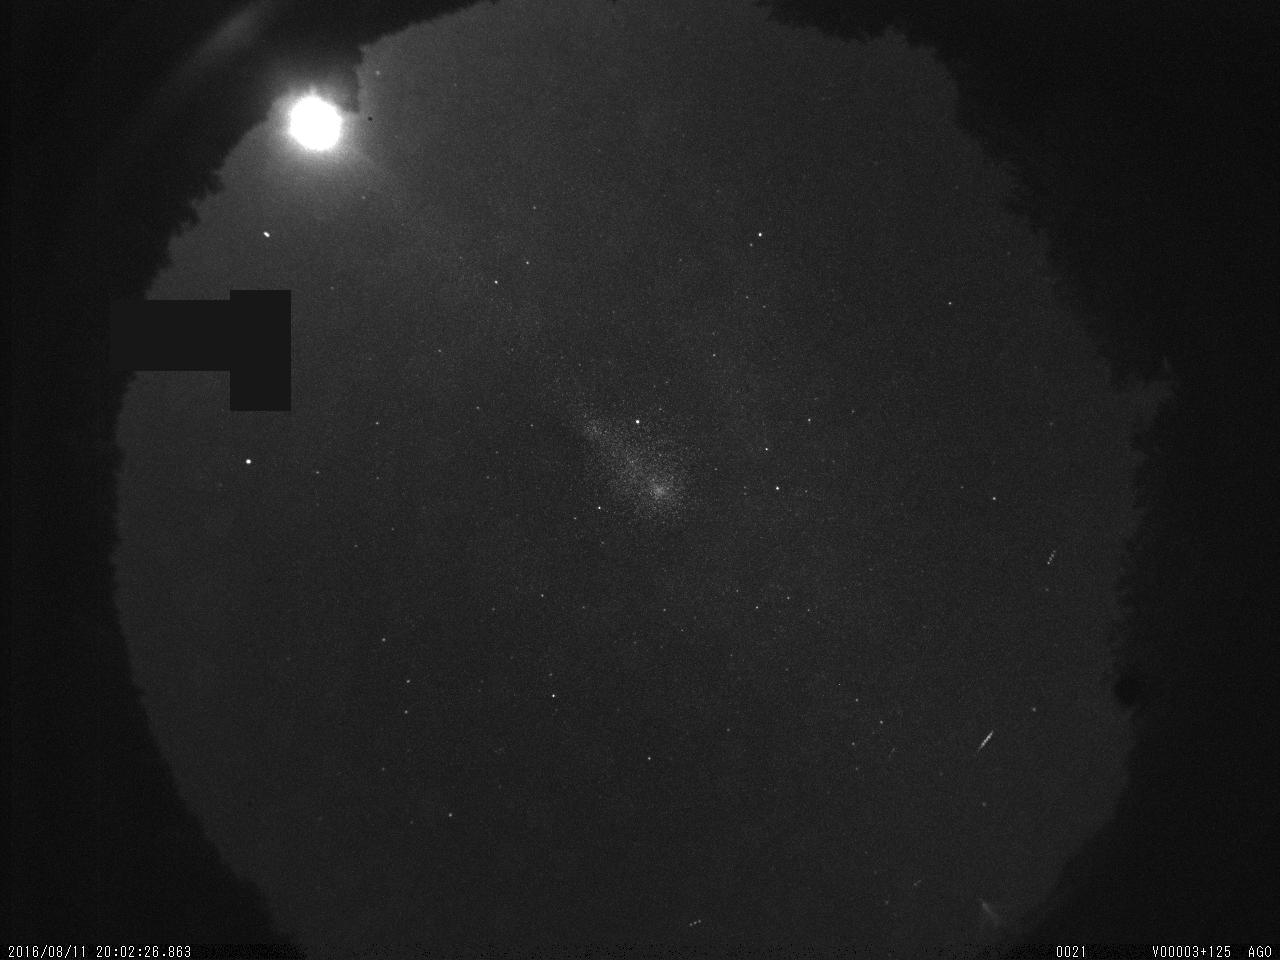meteor: (967, 721, 1002, 766)
